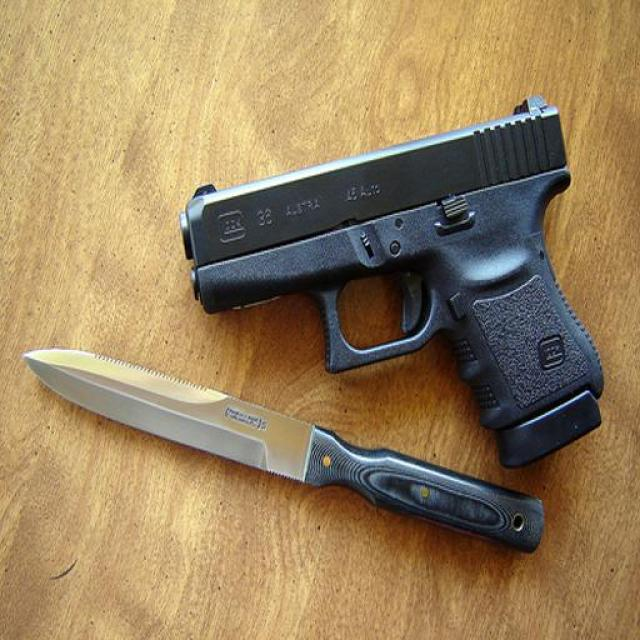pistol: (175, 88, 604, 469)
